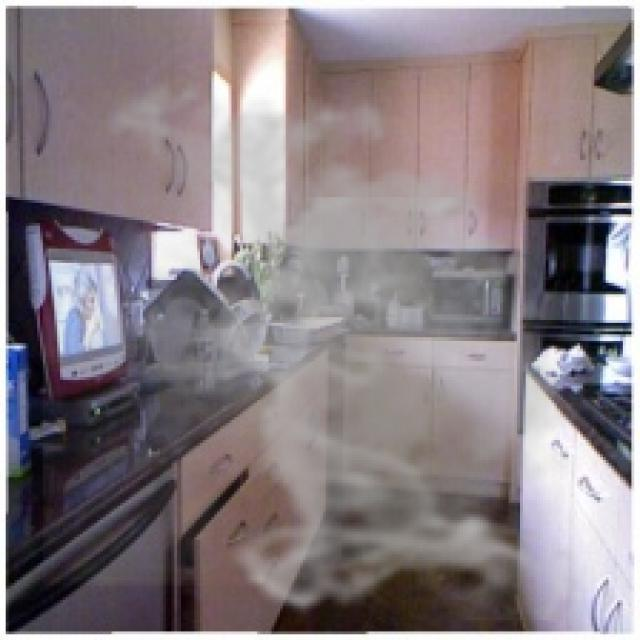Smoke: (43, 65, 603, 620)
